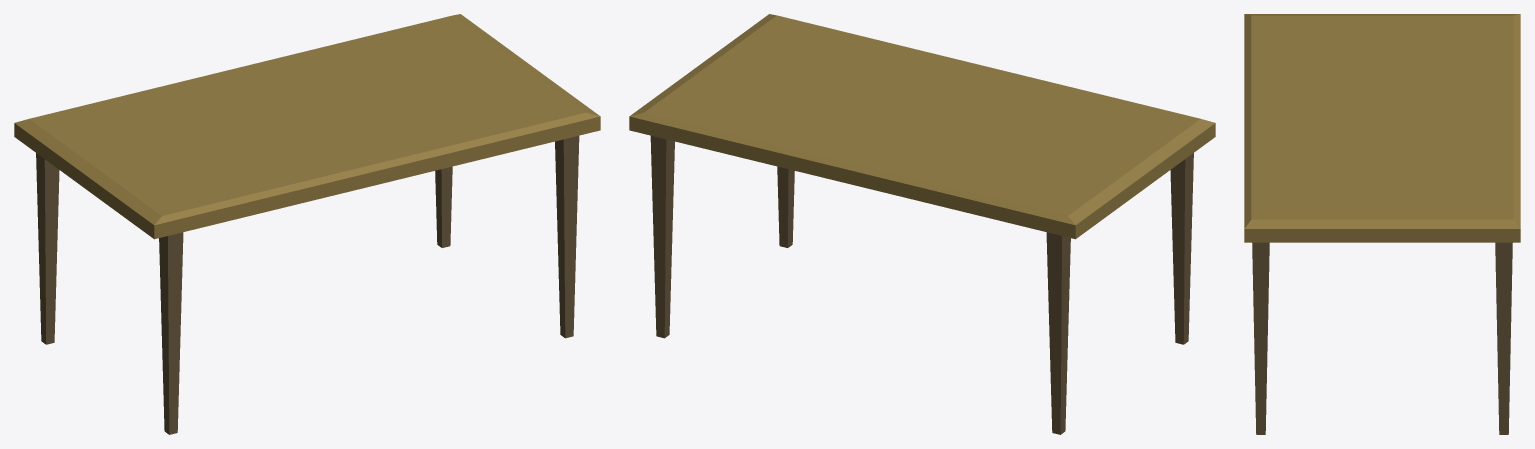
File: DiningTable.glb
The picture shows the model from 3 angles, left to right: view 1: azimuth 30°, elevation 25°; view 2: azimuth 150°, elevation 25°; view 3: azimuth 270°, elevation 25°; orthographic projection.
Parts seen in each view (by area): view 1: table; view 2: table; view 3: table.
Boxes of the visible parts, <box> form: table: <box>14,14,600,434</box>; table: <box>629,14,1215,434</box>; table: <box>1244,14,1520,434</box>.
Bounding box in the file's own units: 5.98 × 2.86 × 3.25.
